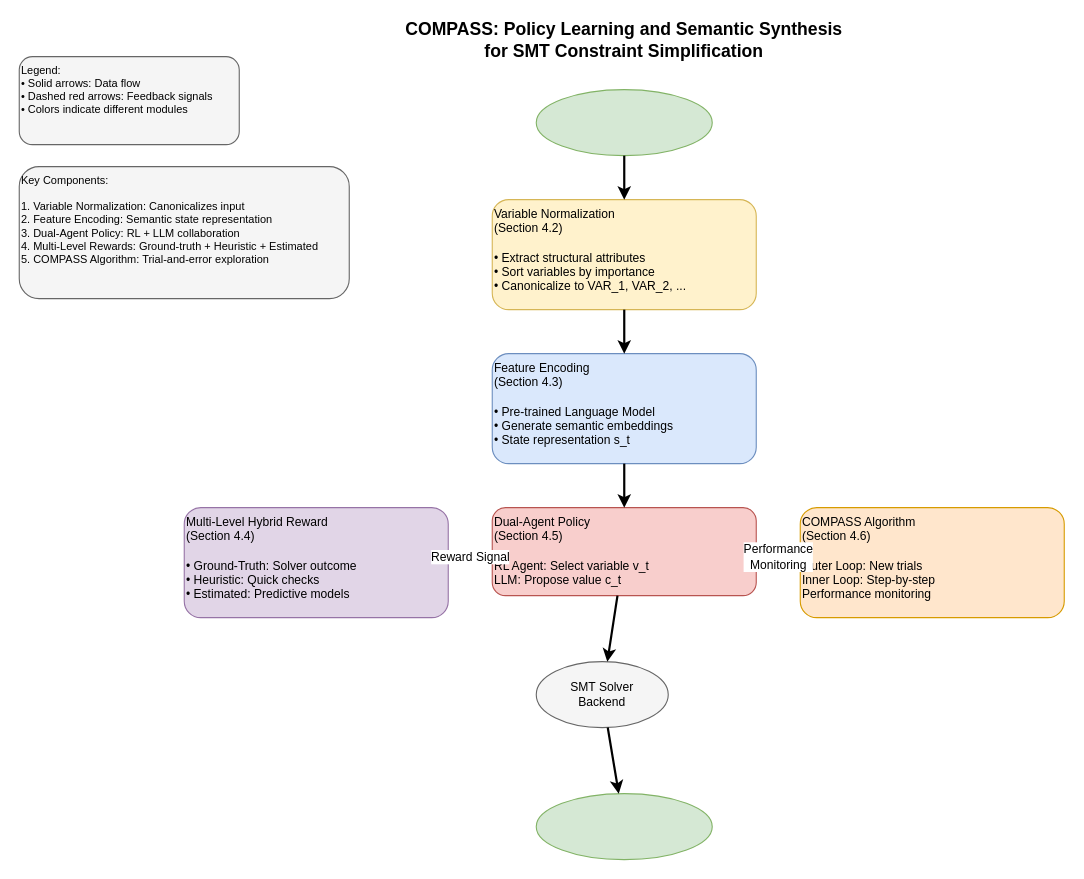
Some shapes in this 1084 by 879 pixel diagram are drawn without their labels. The shapes that lost their labels are listed below. From the top down, each one's box as (x1, y1, x2, y2) in pixels, then its label:
(535, 89, 712, 156): Input SMT Formula Q_init
(535, 793, 712, 860): Simplified Formula or SAT/UNSAT Result
